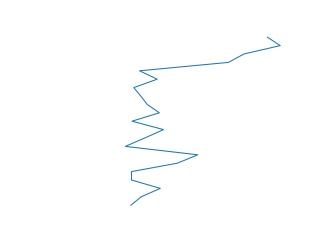crevasseRiverChannelBar: (123, 32, 283, 207)
